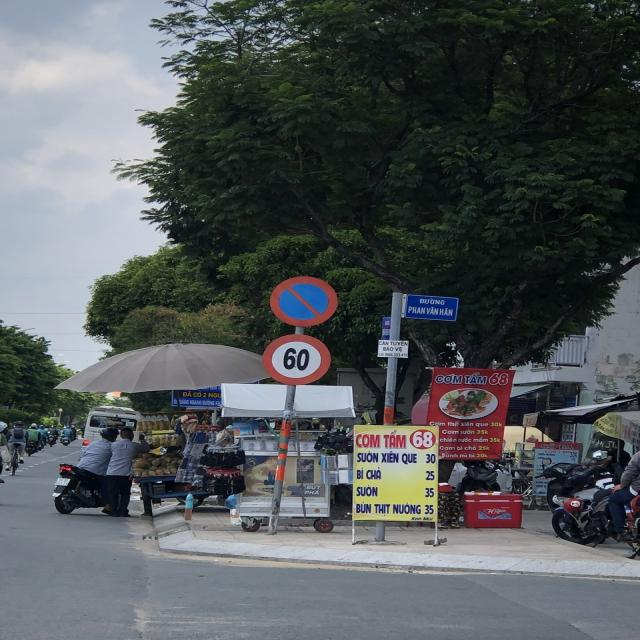Bien bao cam do xe: (260, 269, 350, 328)
Bien bao toc do toi da cho phep: (257, 329, 338, 386)
